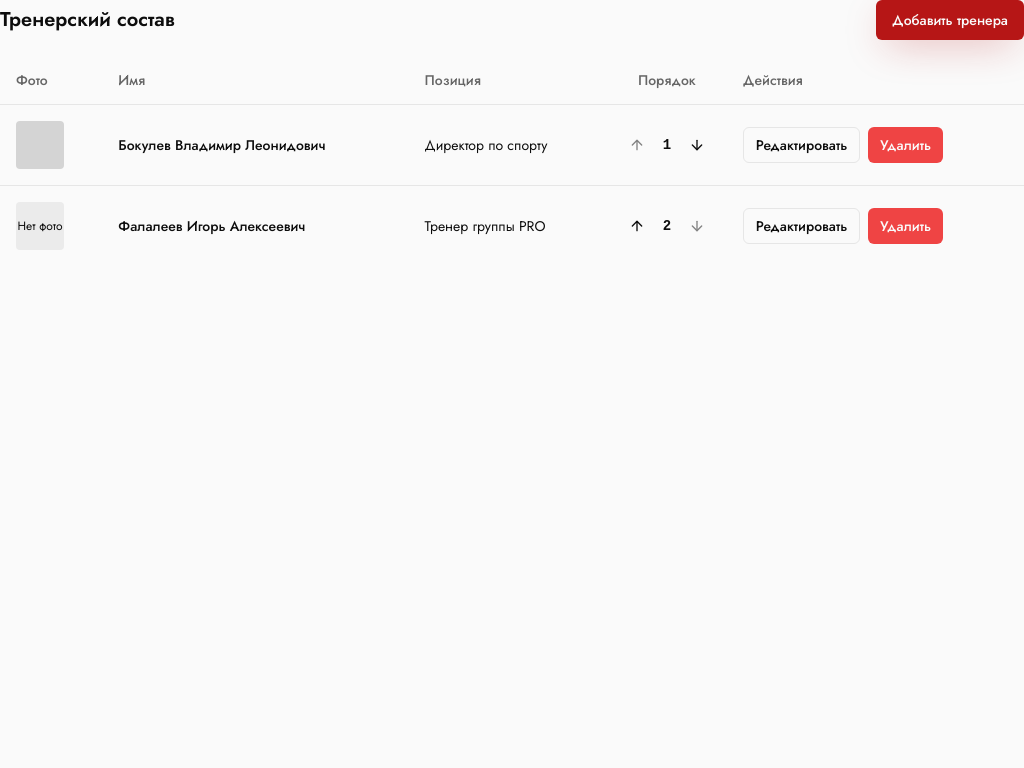
AdminTrainers Component › opens edit dialog pre-filled and updates coach
Later steps or results of the test are not shown.
Expected: the text "Бокулев Владимир Леонидович" is shown, [102,104,408,185]
Click the button "Редактировать" in the row of "Бокулев Владимир Леонидович" at (802, 144), box [743,126,860,162]
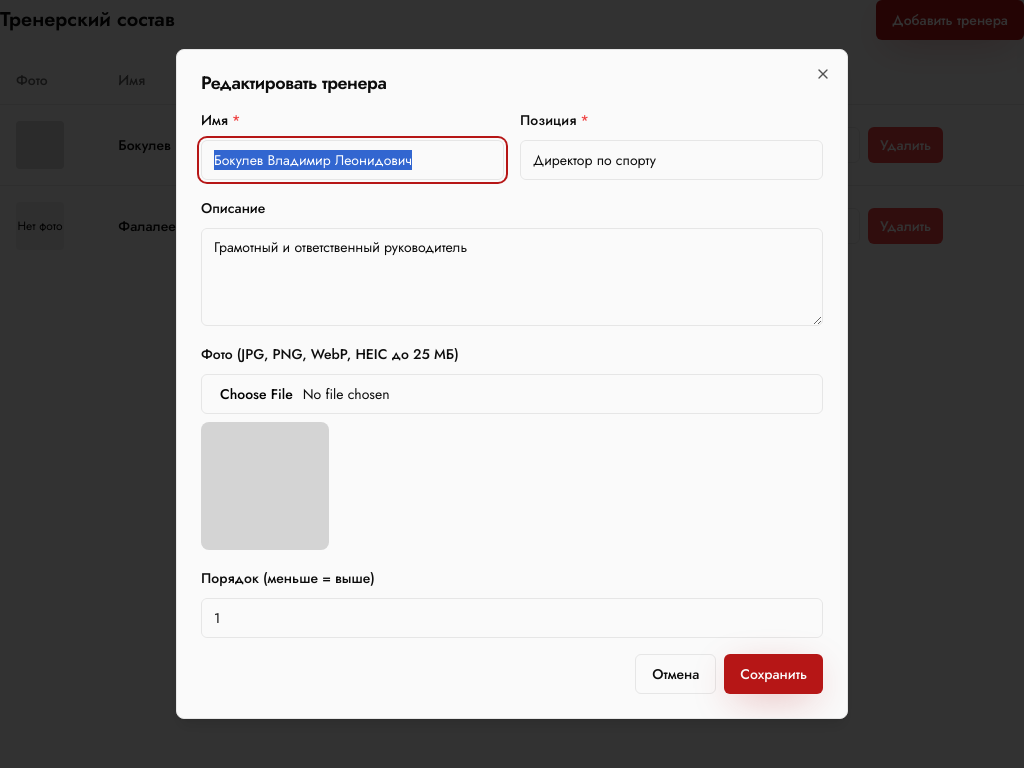
Now the heading "Редактировать тренера" is shown, box [201,70,386,96]
Now the field labelled "Позиция *" holds "Директор по спорту", box [520,140,823,180]
